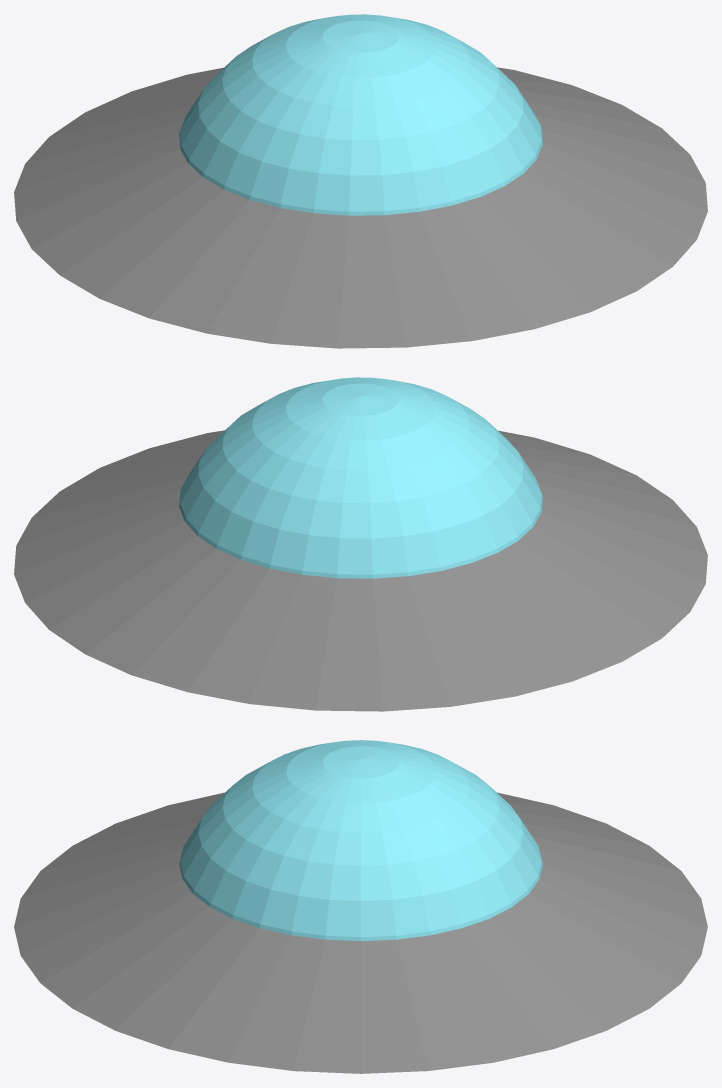
Rendered from ufo_test.obj.
The picture shows the model from 3 angles, top to bottom: view 1: azimuth 30°, elevation 25°; view 2: azimuth 150°, elevation 25°; view 3: azimuth 270°, elevation 25°; orthographic projection.
Parts seen in each view (by area): view 1: 円錐.002; view 2: 円錐.002; view 3: 円錐.002.
Boxes of the visible parts, x1,y1,x2,y2 form: 円錐.002: [14, 14, 707, 348]; 円錐.002: [14, 377, 707, 711]; 円錐.002: [14, 740, 707, 1073].
Size of the model in its own units: 8.56 by 2.29 by 8.56.
Materials: 1 (1 with a texture image).
